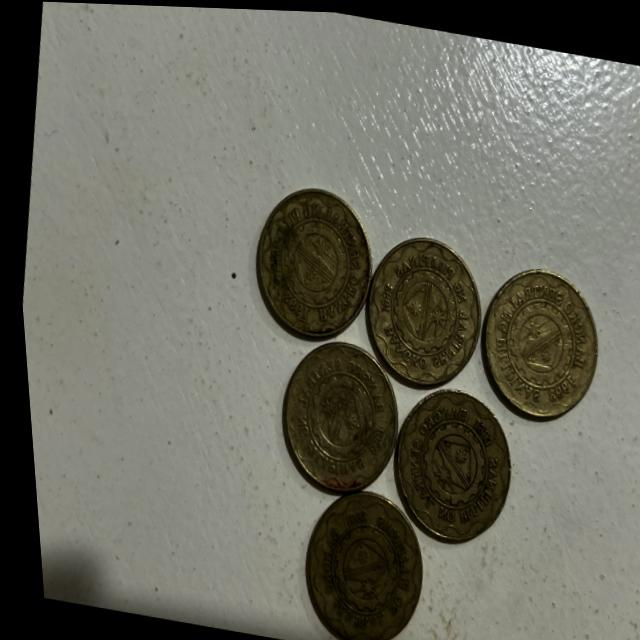5_Old_Back: (361, 381, 521, 568), (234, 168, 385, 354), (461, 274, 614, 435), (260, 339, 406, 506), (353, 223, 495, 391), (279, 482, 424, 640)
